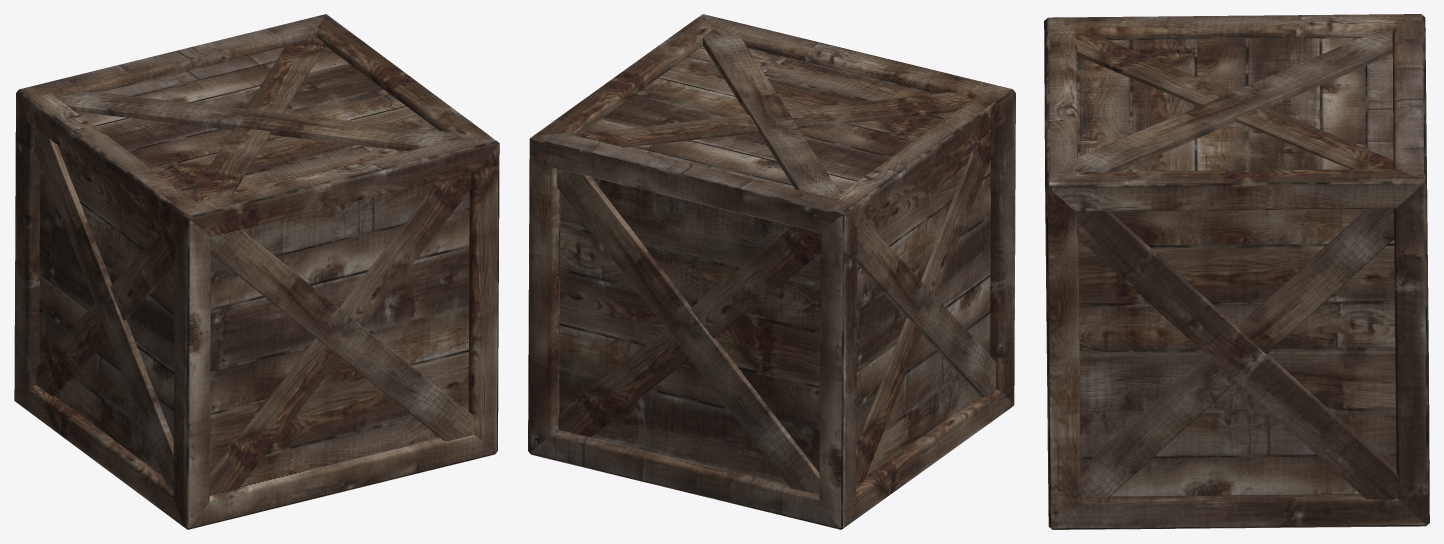
Rendered from SM_WoodenBox_01a.gltf.
The picture shows the model from 3 angles, left to right: view 1: azimuth 30°, elevation 25°; view 2: azimuth 150°, elevation 25°; view 3: azimuth 270°, elevation 25°; orthographic projection. The views are drawn at different scales.
Visible parts, largest first — view 1: SM_WoodenBox_01a; view 2: SM_WoodenBox_01a; view 3: SM_WoodenBox_01a.
Part boxes in pixels (x1,y1,x2,y2): SM_WoodenBox_01a: (14, 14, 499, 529); SM_WoodenBox_01a: (528, 14, 1015, 529); SM_WoodenBox_01a: (1044, 14, 1429, 529).
Bounding box in the file's own units: 0.8053 × 0.7779 × 0.7766.
1 material, 1 textured.
